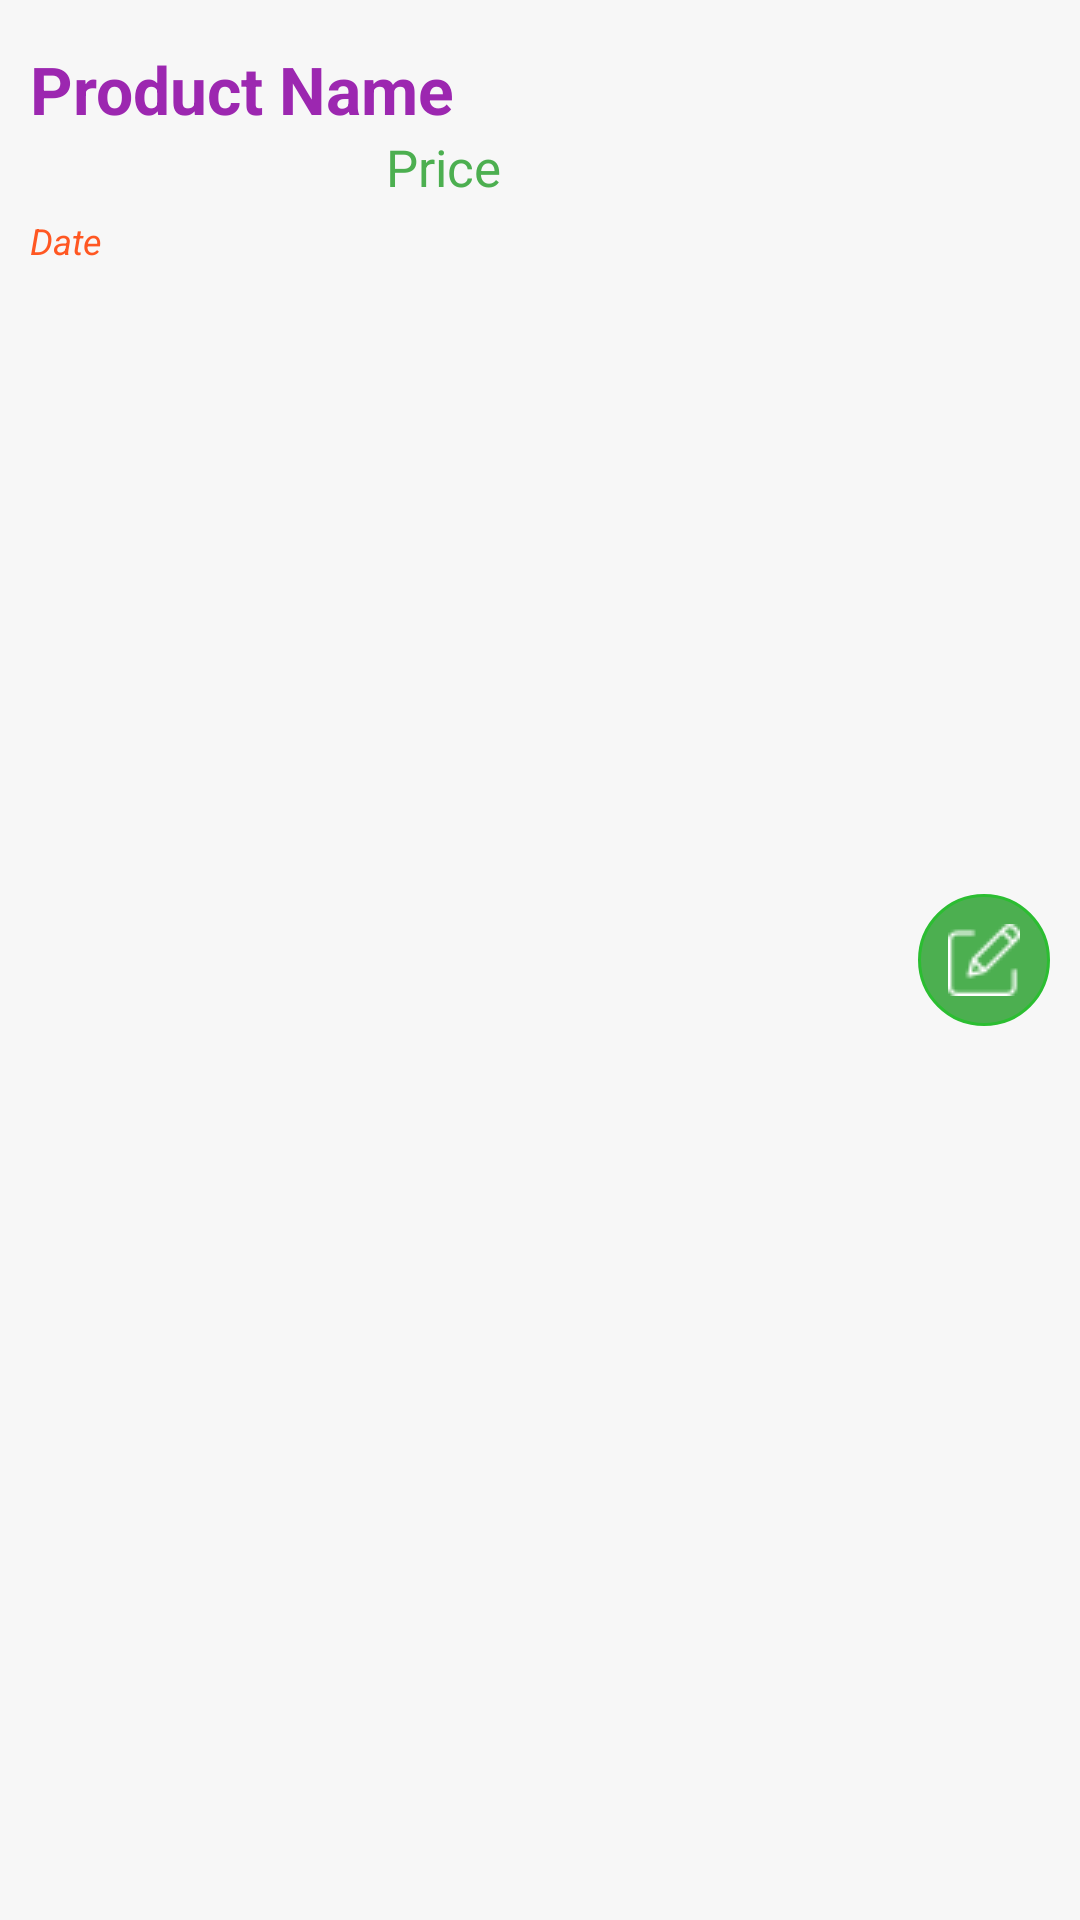

Where to tap for icons on this 1080 × 1920 app screen, as [x,y]:
edit: [984,960]
